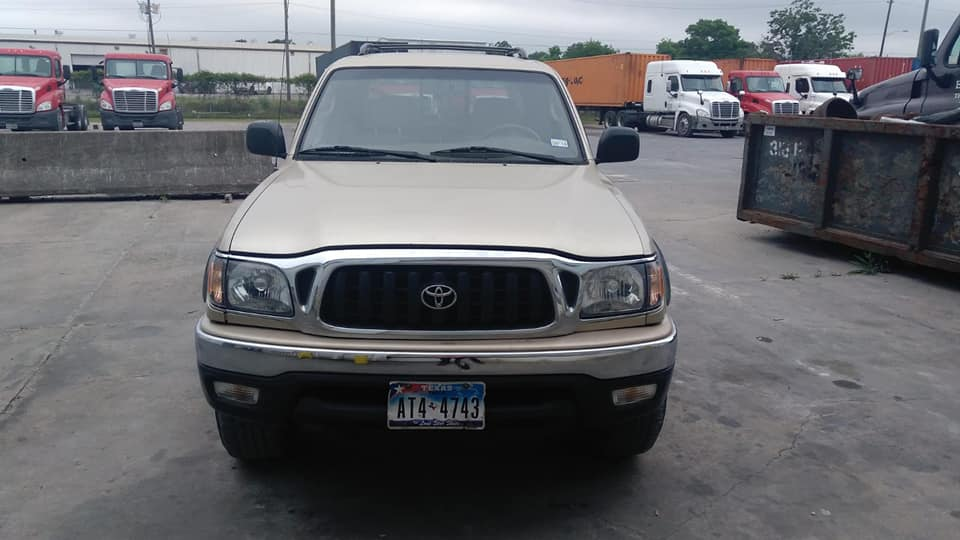pickup: (207, 42, 669, 459)
